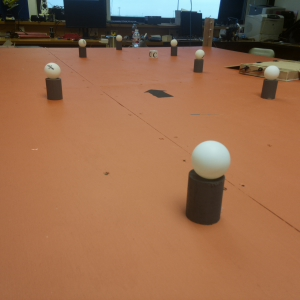blockC: (147, 49, 158, 59)
corner: (202, 17, 213, 45)
obstacle: (185, 140, 226, 220), (43, 63, 63, 102), (262, 67, 279, 100), (194, 48, 204, 73), (77, 39, 88, 59), (169, 40, 179, 59), (115, 36, 122, 50)
side: (238, 63, 266, 78)
start: (144, 87, 172, 100)
